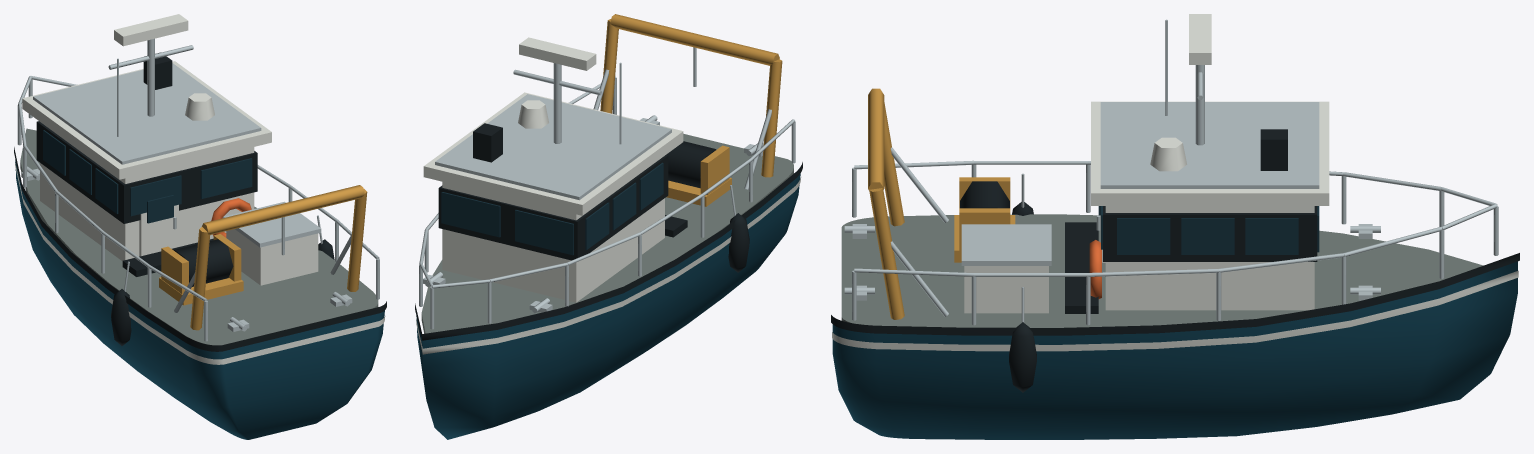
File: research-vessel-low.v1.glb
The picture shows the model from 3 angles, left to right: view 1: azimuth 30°, elevation 25°; view 2: azimuth 150°, elevation 25°; view 3: azimuth 270°, elevation 25°; orthographic projection. The views are drawn at different scales.
Visible parts, largest first — view 1: hull, steel, ivory, deck, rubber, equipment, glass, safety; view 2: hull, ivory, steel, deck, rubber, equipment, glass; view 3: hull, steel, ivory, deck, rubber, equipment, glass, safety.
Boxes of the visible parts, x1,y1,x2,y2 form: hull: [15, 160, 384, 439]; steel: [17, 38, 379, 341]; ivory: [15, 14, 385, 364]; deck: [20, 128, 378, 345]; rubber: [14, 52, 386, 351]; equipment: [159, 185, 367, 330]; glass: [43, 130, 252, 223]; safety: [211, 198, 251, 237]; hull: [416, 173, 800, 439]; ivory: [416, 37, 801, 354]; steel: [419, 47, 795, 329]; deck: [421, 133, 793, 333]; rubber: [415, 123, 802, 340]; equipment: [600, 14, 782, 206]; glass: [441, 162, 663, 255]; hull: [832, 261, 1517, 439]; steel: [844, 19, 1498, 325]; ivory: [832, 14, 1518, 351]; deck: [841, 214, 1483, 327]; rubber: [831, 129, 1519, 392]; equipment: [868, 88, 1015, 319]; glass: [1098, 206, 1319, 254]; safety: [1089, 240, 1101, 298].
Size of the model in its own units: 2.92 by 3.86 by 6.33.
